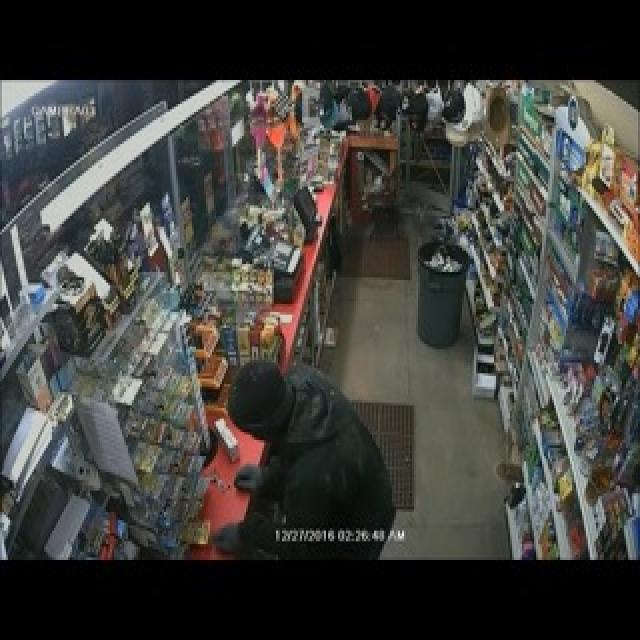thief: (219, 350, 394, 551)
